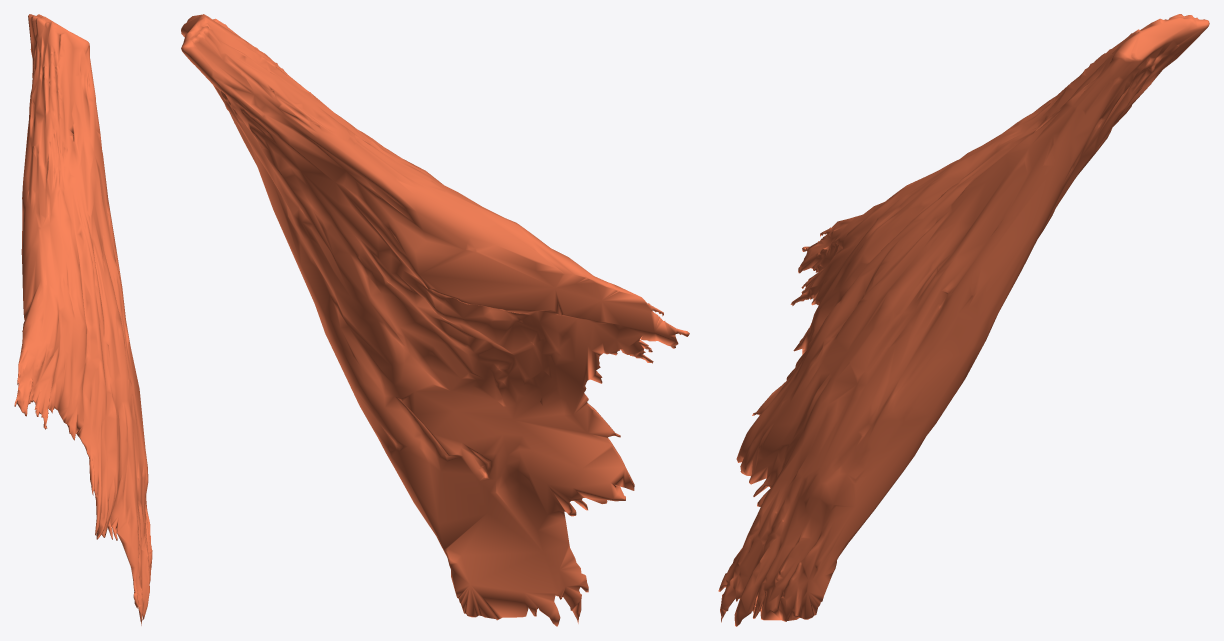
The model's file is Pectoralis_minor_left.glb.
3 renders of one model, left to right at view 1: azimuth 30°, elevation 25°; view 2: azimuth 150°, elevation 25°; view 3: azimuth 270°, elevation 25°, orthographic. The views are drawn at different scales.
Visible parts, largest first — view 1: Pectoralis_minor_muscle.l_Generated_Mesh_From_X3D.300; view 2: Pectoralis_minor_muscle.l_Generated_Mesh_From_X3D.300; view 3: Pectoralis_minor_muscle.l_Generated_Mesh_From_X3D.300.
Part boxes in pixels (x1,y1,x2,y2): Pectoralis_minor_muscle.l_Generated_Mesh_From_X3D.300: (14,14,152,625); Pectoralis_minor_muscle.l_Generated_Mesh_From_X3D.300: (181,14,689,626); Pectoralis_minor_muscle.l_Generated_Mesh_From_X3D.300: (718,14,1209,626).
Size of the model in its own units: 0.0589 by 0.1391 by 0.095.
